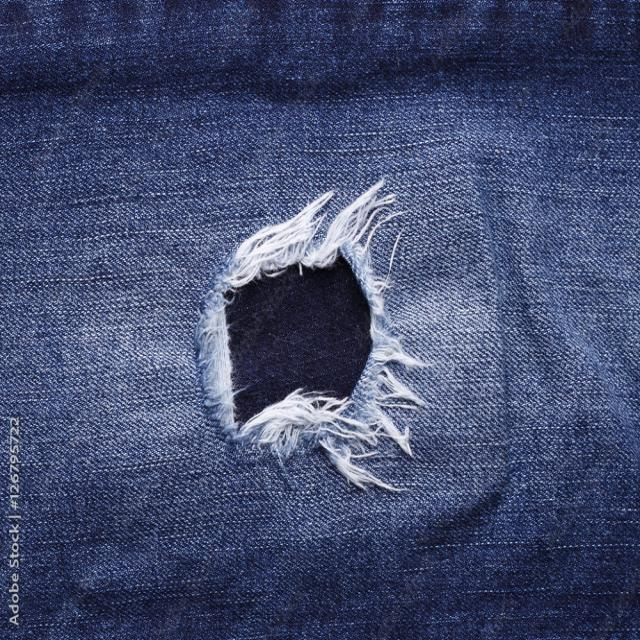Hole: (198, 180, 433, 487)
